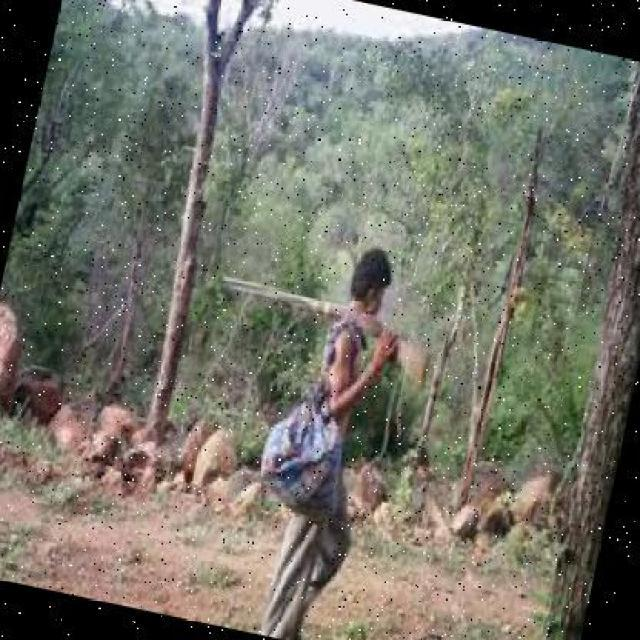poacher: (232, 226, 428, 626)
weapon: (187, 271, 376, 340)
